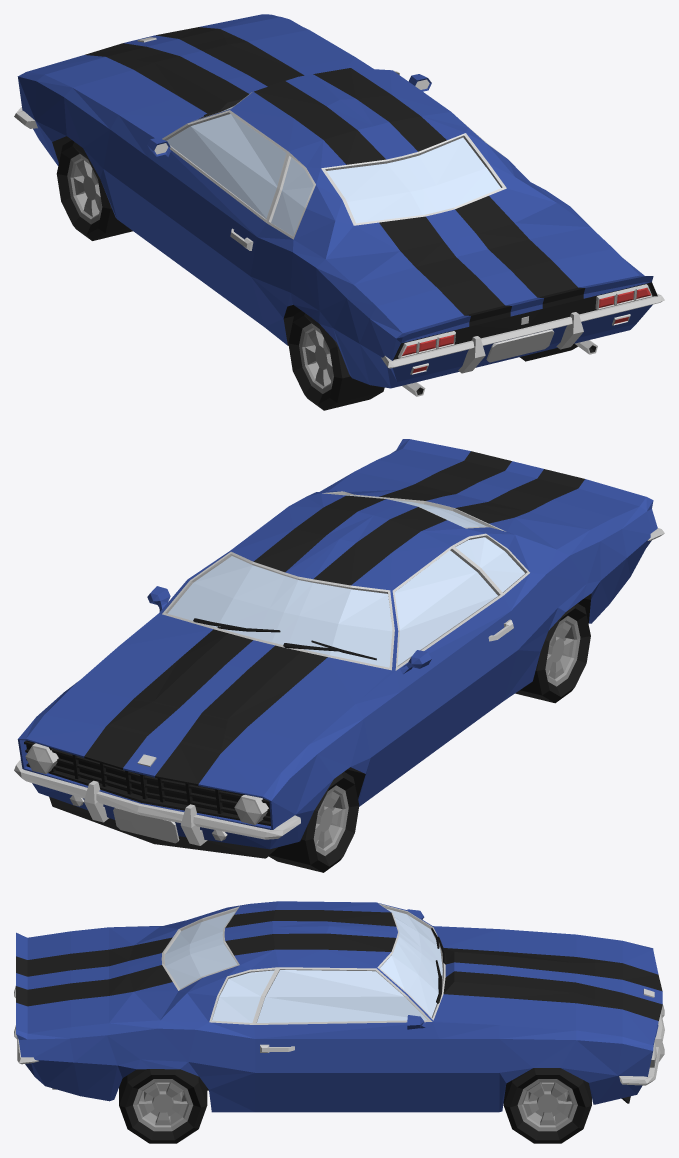
File: Car_muscle_01_blue_SkF.fbx
3 renders of one model, top to bottom at view 1: azimuth 30°, elevation 25°; view 2: azimuth 150°, elevation 25°; view 3: azimuth 270°, elevation 25°, orthographic. The views are drawn at different scales.
Visible parts, largest first — view 1: Muscle_car_01, Window, rear_wheel_left, front_wheel_left; view 2: Muscle_car_01, Window, front_wheel_left, rear_wheel_left; view 3: Muscle_car_01, Window, rear_wheel_right, front_wheel_right.
Boxes of the visible parts, x1,y1,x2,y2 form: Muscle_car_01: [14, 14, 664, 396]; Window: [166, 106, 500, 236]; rear_wheel_left: [288, 311, 384, 410]; front_wheel_left: [56, 140, 132, 240]; Muscle_car_01: [14, 439, 664, 858]; Window: [168, 495, 524, 667]; front_wheel_left: [268, 772, 359, 872]; rear_wheel_left: [515, 603, 590, 703]; Muscle_car_01: [14, 901, 664, 1112]; Window: [164, 909, 442, 1022]; rear_wheel_right: [119, 1069, 207, 1143]; front_wheel_right: [503, 1068, 591, 1143].
Bounding box in the file's own units: 200 × 138 × 487.
Materials: 1 (1 with a texture image).
